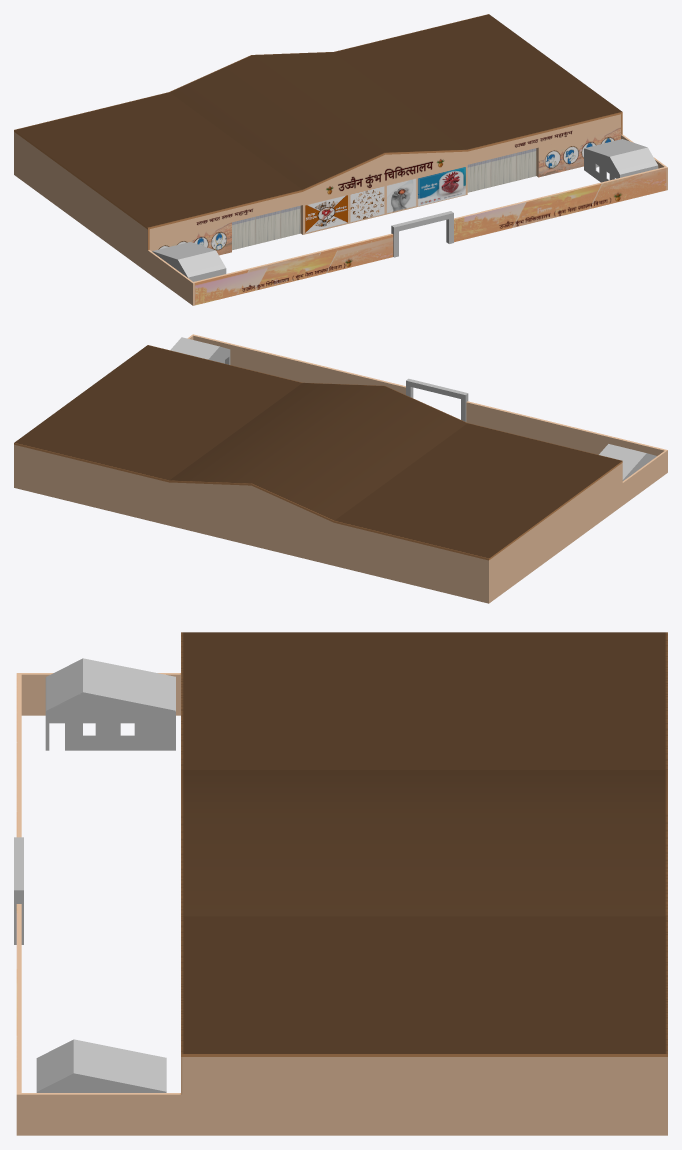
Rendered from HOSPITAL.fbx.
The picture shows the model from 3 angles, top to bottom: view 1: azimuth 30°, elevation 25°; view 2: azimuth 150°, elevation 25°; view 3: azimuth 270°, elevation 25°; orthographic projection. The views are drawn at different scales.
Parts seen in each view (by area): view 1: HOSPITAL_WALL, CABIN_1, H_CURTAIN_2, H_CURTAIN_1, CABIN_2, GATE; view 2: HOSPITAL_WALL, CABIN_1, CABIN_2, GATE; view 3: HOSPITAL_WALL, CABIN_2, CABIN_1, GATE.
Boxes of the visible parts, x1,y1,x2,y2 form: HOSPITAL_WALL: (14,14,667,305); CABIN_1: (584,139,658,182); H_CURTAIN_2: (467,148,536,192); H_CURTAIN_1: (232,205,300,250); CABIN_2: (152,242,226,281); GATE: (391,211,453,257); HOSPITAL_WALL: (14,334,667,603); CABIN_1: (170,337,230,364); CABIN_2: (599,444,656,480); GATE: (406,378,468,421); HOSPITAL_WALL: (16,632,667,1135); CABIN_2: (45,658,175,750); CABIN_1: (36,1039,166,1092); GATE: (14,837,23,944).
Size of the model in its own units: 6053 by 755 by 3969.
